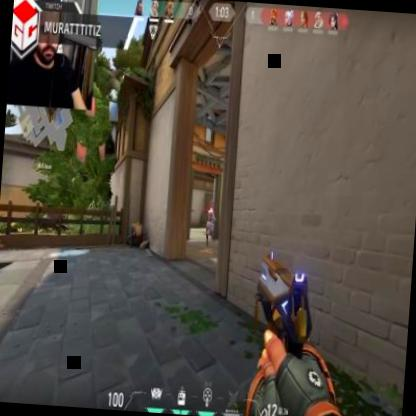enemy: (202, 200, 218, 246), (184, 202, 196, 240)
enemy_head: (210, 202, 214, 210)
